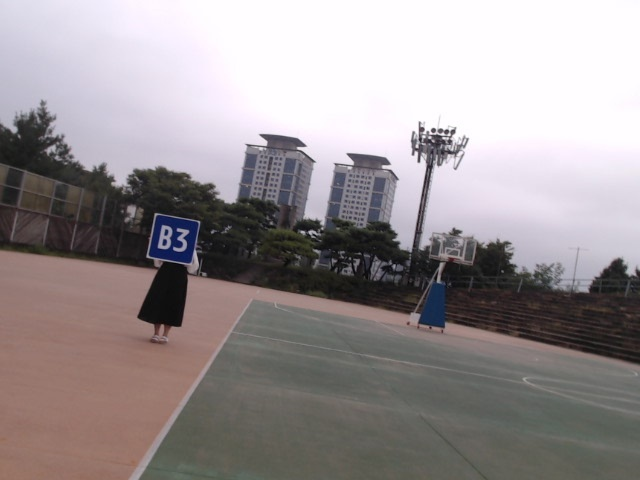delivery_b3: (146, 213, 200, 265)
